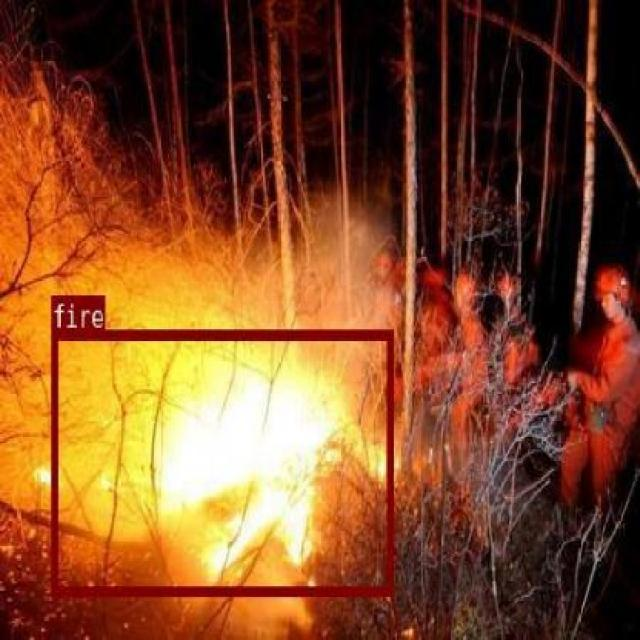Fire: (50, 328, 392, 594)
